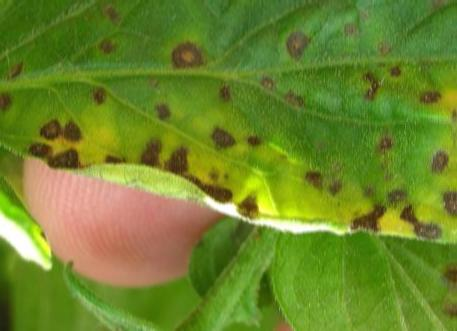Tomato Septoria leaf spot: (0, 0, 457, 227)
